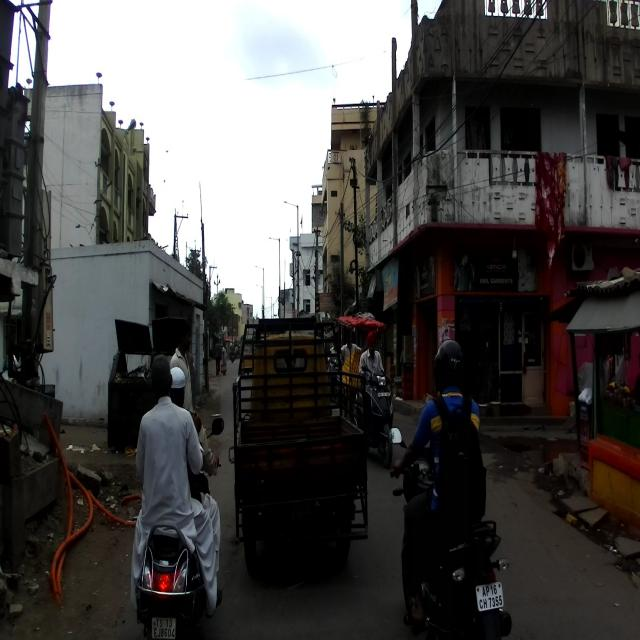autorickshaw: (227, 316, 369, 568)
motorcycle_bajaj: (387, 425, 511, 639)
scooter: (135, 414, 224, 638), (358, 361, 397, 468)
